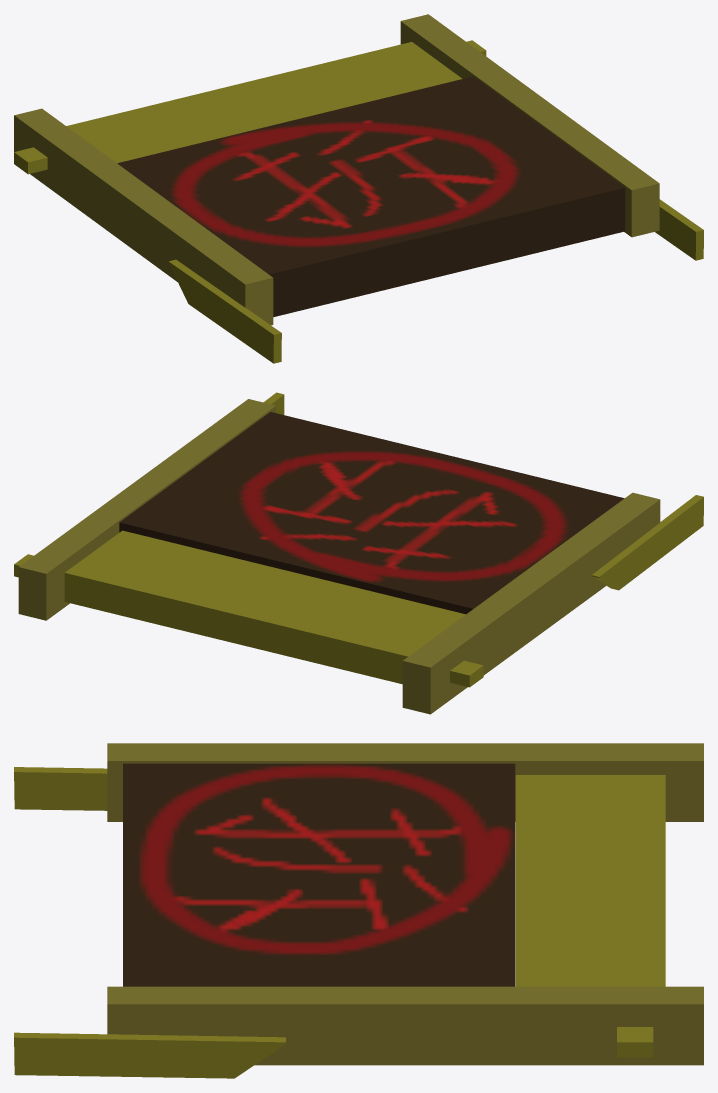
The model's file is hurdle.glb.
3 renders of one model, top to bottom at view 1: azimuth 30°, elevation 25°; view 2: azimuth 150°, elevation 25°; view 3: azimuth 270°, elevation 25°, orthographic. The views are drawn at different scales.
Parts seen in each view (by area): view 1: 立方体.018, 立方体.020, 立方体.019, 立方体.022; view 2: 立方体.018, 立方体.019, 立方体.020, 立方体.022; view 3: 立方体.018, 立方体.020, 立方体.019, 立方体.022.
Part boxes in pixels (x1,y1,x2,y2): 立方体.018: [117, 76, 625, 317]; 立方体.020: [14, 14, 659, 325]; 立方体.019: [14, 40, 486, 174]; 立方体.022: [168, 199, 703, 363]; 立方体.018: [119, 412, 624, 614]; 立方体.019: [14, 530, 483, 687]; 立方体.020: [18, 399, 660, 714]; 立方体.022: [263, 392, 703, 590]; 立方体.018: [123, 763, 515, 986]; 立方体.020: [107, 743, 703, 1065]; 立方体.019: [515, 775, 665, 1057]; 立方体.022: [14, 767, 285, 1078].
Size of the model in its own units: 41.53 by 4.65 by 41.96.
Materials: 3 (1 with a texture image).
